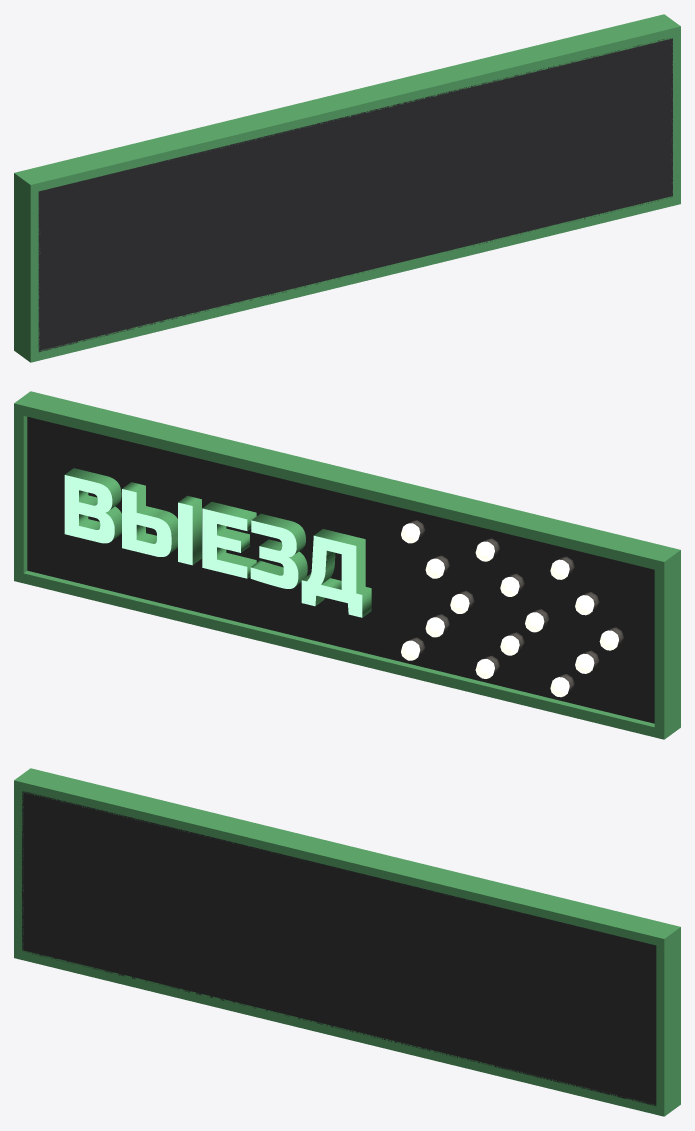
Rendered from arrow_exit_right.glb.
The picture shows the model from 3 angles, top to bottom: view 1: azimuth 30°, elevation 25°; view 2: azimuth 150°, elevation 25°; view 3: azimuth 330°, elevation 25°; orthographic projection.
Parts seen in each view (by area): view 1: Sign; view 2: Sign, BulbsA, BulbsB; view 3: Sign.
Part boxes in pixels (<box>): Sign: <box>14,14,680,362</box>; Sign: <box>14,391,680,739</box>; BulbsA: <box>401,523,618,697</box>; BulbsB: <box>475,541,544,678</box>; Sign: <box>14,768,680,1116</box>.
Bounding box in the file's own units: 4.06 × 1.06 × 0.268.
